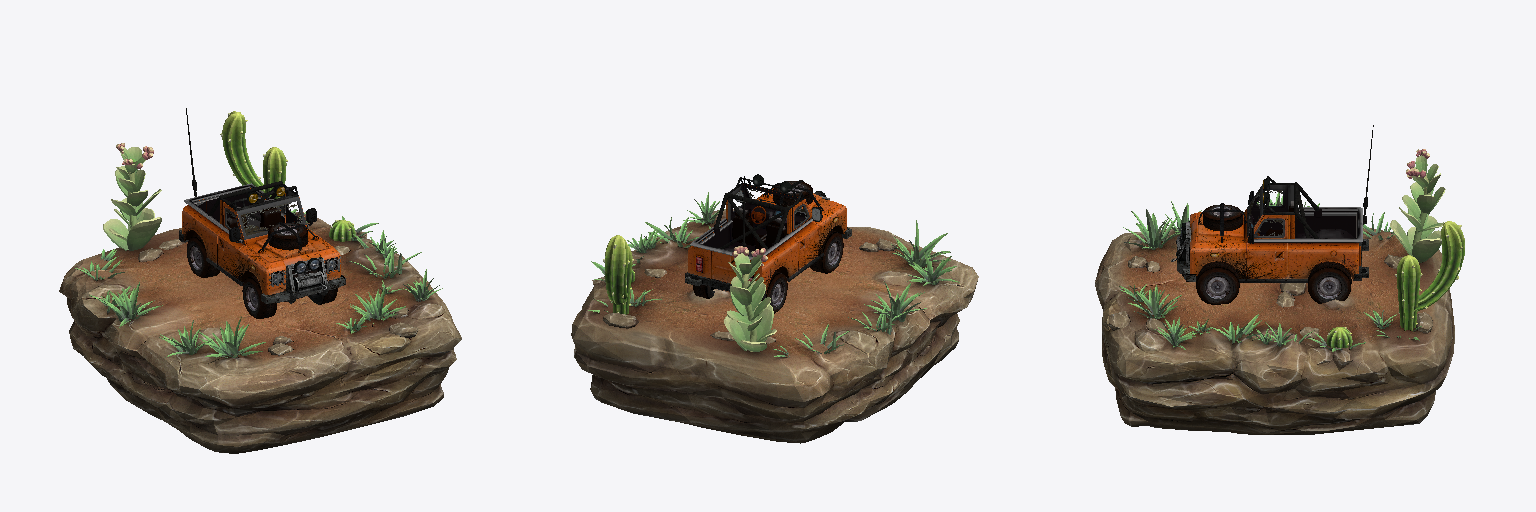
The picture shows the model from 3 angles: view 1: azimuth 30°, elevation 25°; view 2: azimuth 150°, elevation 25°; view 3: azimuth 270°, elevation 25°; orthographic projection.
Parts seen in each view (by area): view 1: Object.104, Object.105, Object.103, Object.2, Object.39, Object.1, Object.47, Object.40, Object.52, Object.26, Object.50, Object.24 (+1 smaller); view 2: Object.104, Object.105, Object.2, Object.103, Object.47, Object.40, Object.39, Object.22, Object.10, Object.24, Object.49; view 3: Object.104, Object.103, Object.105, Object.2, Object.40, Object.39, Object.47, Object.12, Object.22, Object.41, Object.48, Object.1 (+1 smaller).
Boxes of the visible parts, x1,y1,x2,y2 form: Object.104: [59, 212, 461, 453]; Object.105: [75, 209, 421, 357]; Object.103: [220, 111, 287, 198]; Object.2: [193, 190, 308, 245]; Object.39: [238, 231, 340, 294]; Object.1: [247, 232, 329, 262]; Object.47: [182, 193, 249, 240]; Object.40: [217, 216, 310, 279]; Object.52: [127, 217, 161, 250]; Object.26: [268, 223, 307, 249]; Object.50: [286, 257, 327, 303]; Object.24: [242, 276, 276, 318]; Object.104: [571, 209, 978, 443]; Object.105: [588, 217, 959, 357]; Object.2: [695, 184, 811, 276]; Object.103: [603, 235, 633, 314]; Object.47: [688, 244, 787, 293]; Object.40: [731, 206, 818, 269]; Object.39: [755, 188, 846, 254]; Object.22: [693, 271, 787, 313]; Object.10: [712, 251, 736, 282]; Object.24: [810, 230, 843, 273]; Object.49: [714, 193, 788, 243]; Object.104: [1095, 228, 1454, 434]; Object.103: [1395, 221, 1464, 330]; Object.105: [1119, 192, 1421, 351]; Object.2: [1244, 184, 1360, 265]; Object.40: [1246, 213, 1287, 278]; Object.39: [1190, 213, 1245, 278]; Object.47: [1309, 243, 1358, 278]; Object.12: [1196, 262, 1239, 304]; Object.22: [1308, 262, 1351, 303]; Object.41: [1288, 243, 1315, 278]; Object.48: [1302, 207, 1362, 242]; Object.1: [1198, 212, 1243, 242].
Size of the model in its own units: 500 by 371 by 519.
Materials: 8 (8 with a texture image).